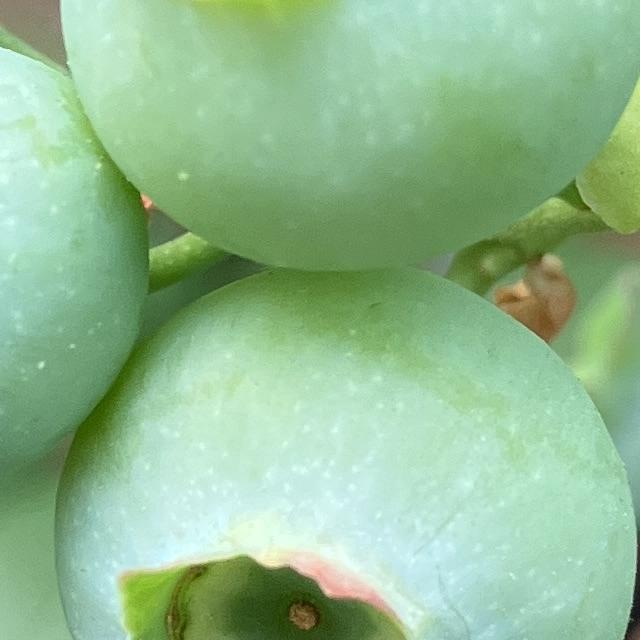Blueberries: (29, 263, 640, 640), (52, 0, 640, 273), (0, 0, 162, 493)
